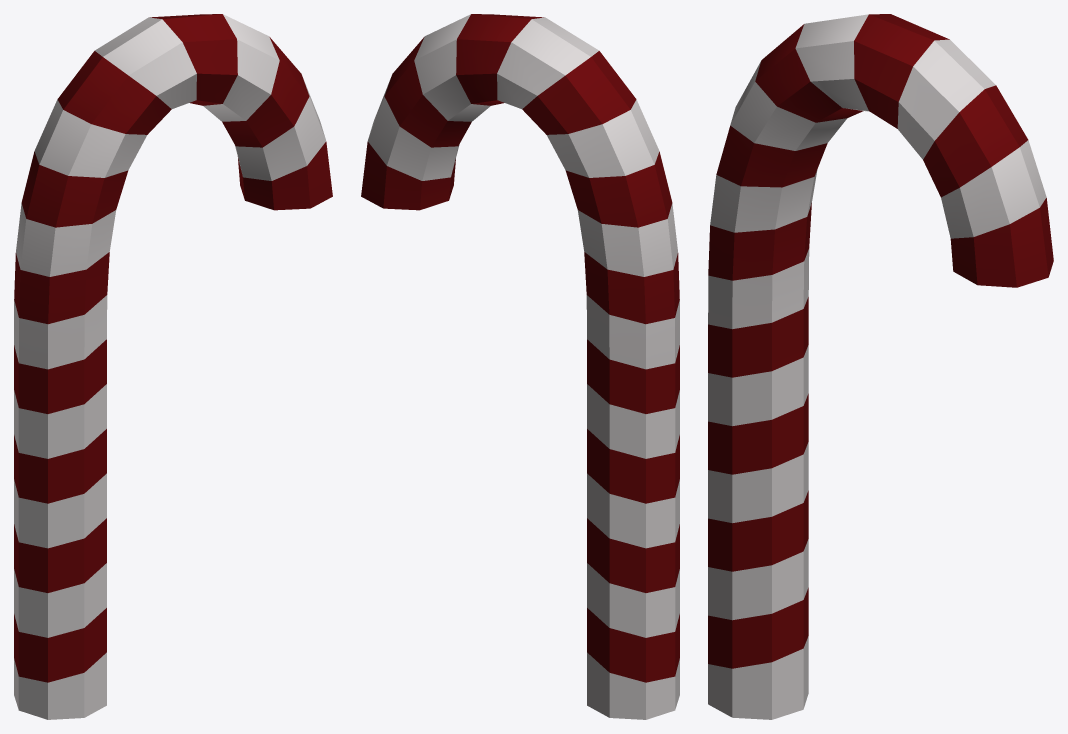
Rendered from SM_Candycane.fbx.
3 renders of one model, left to right at view 1: azimuth 30°, elevation 25°; view 2: azimuth 150°, elevation 25°; view 3: azimuth 330°, elevation 25°, orthographic. The views are drawn at different scales.
Visible parts, largest first — view 1: SM_Candycane; view 2: SM_Candycane; view 3: SM_Candycane.
Part boxes in pixels (x1,y1,x2,y2): SM_Candycane: (14, 14, 332, 719); SM_Candycane: (361, 14, 679, 719); SM_Candycane: (708, 14, 1053, 719).
Bounding box in the file's own units: 27.36 × 55.47 × 7.36.
